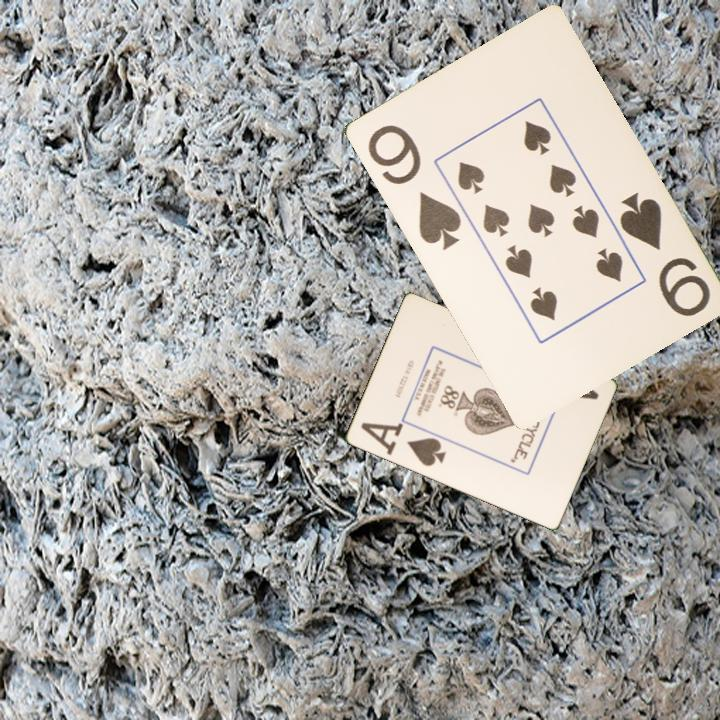9s: (363, 120, 464, 254), (615, 188, 713, 320)
As: (365, 424, 449, 469)
